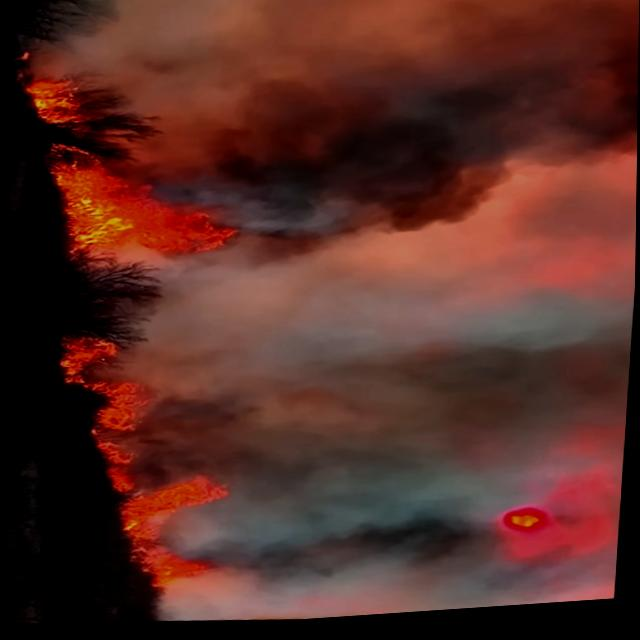fire: (33, 143, 216, 289), (85, 466, 232, 597), (47, 317, 179, 424)
smoke: (197, 0, 640, 256), (158, 377, 630, 508), (211, 517, 458, 627)
